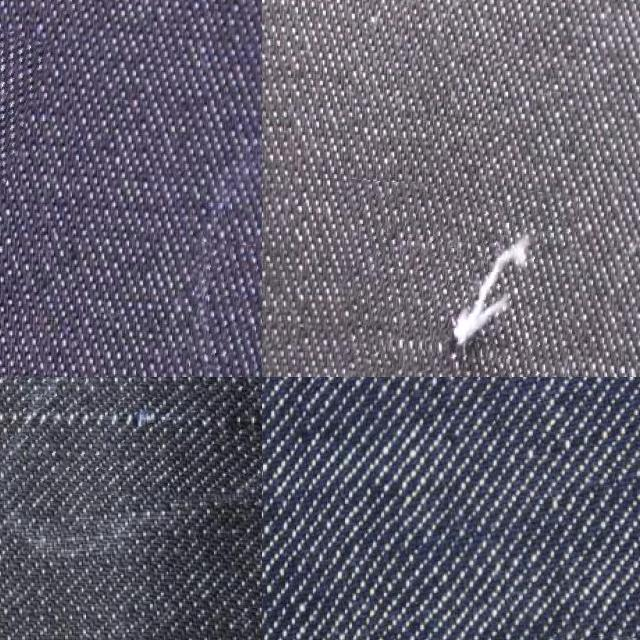Thread_other: (334, 183, 574, 377), (0, 377, 262, 496), (189, 244, 262, 377)
